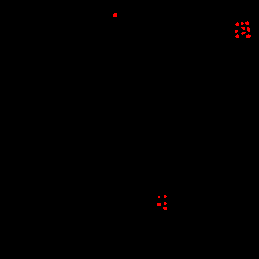Target: (246, 34, 251, 38), (113, 13, 117, 17), (245, 21, 249, 25), (235, 22, 239, 26), (235, 34, 239, 38), (247, 27, 250, 32), (241, 32, 246, 35), (241, 27, 245, 30), (157, 203, 161, 206), (163, 207, 167, 210), (241, 22, 244, 25), (235, 30, 238, 33), (164, 195, 167, 198), (164, 202, 167, 205), (158, 196, 160, 198)
